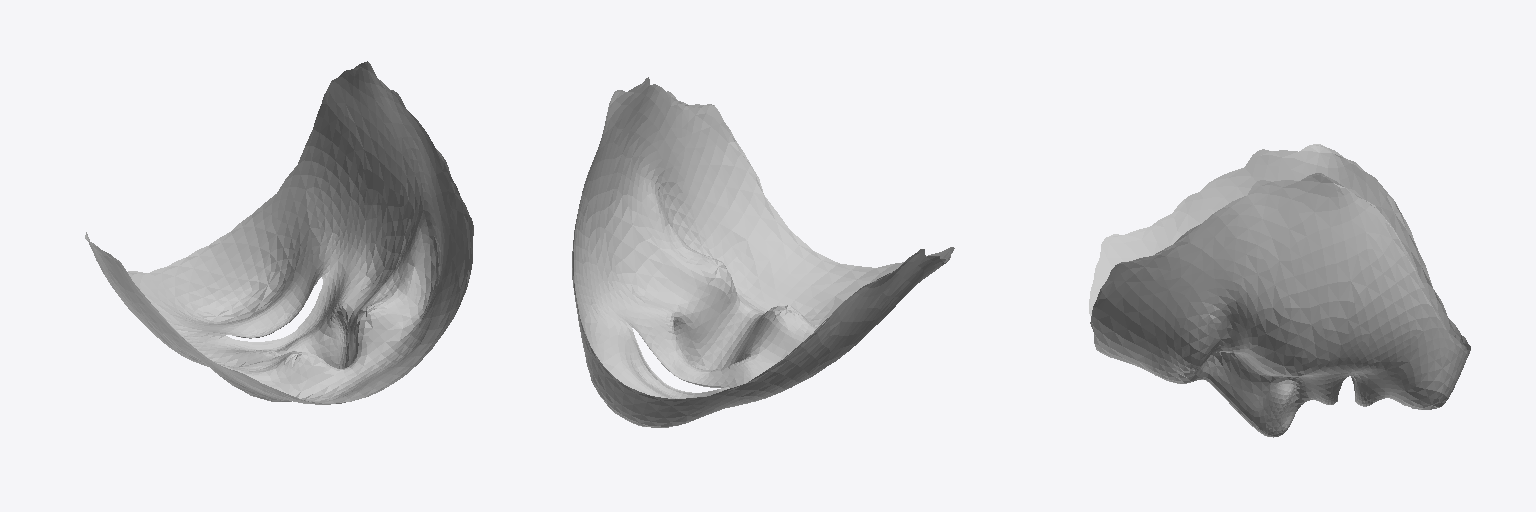
The model's file is face_gab_sfm10.obj.
3 views of the same model, side by side, from view 1: azimuth 30°, elevation 25°; view 2: azimuth 150°, elevation 25°; view 3: azimuth 270°, elevation 25° (orthographic).
Size of the model in its own units: 163 by 153 by 179.